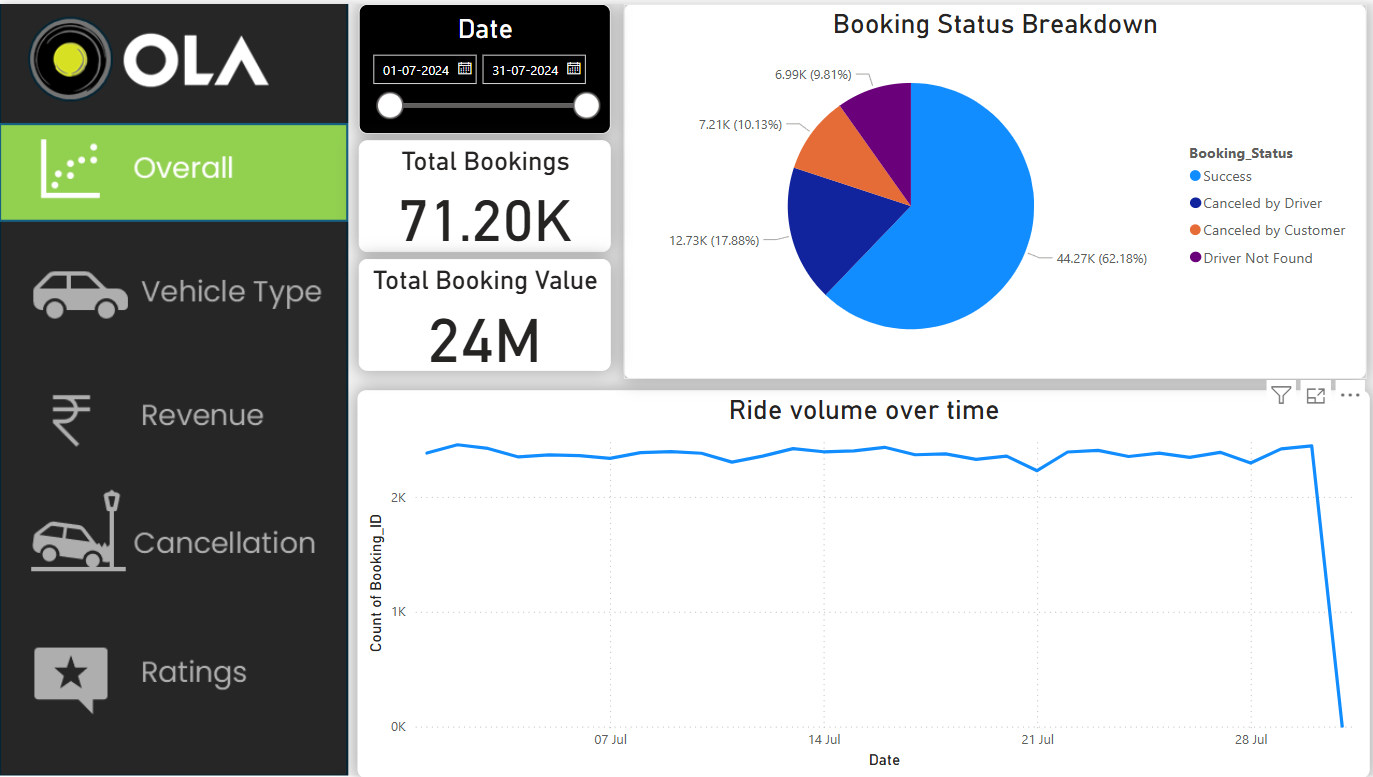

This screenshot's page, from the dashboard's own definition file:
{"tool":"powerbi","page":{"name":"overall","canvas":[1280,720],"ordinal":0},"visuals":[{"type":"actionButton","box":[0,222,324.5,92.9],"z":0},{"type":"actionButton","box":[0,335.4,324.5,92.9],"z":1000},{"type":"actionButton","box":[0,447.6,324.5,92.9],"z":2000},{"type":"actionButton","box":[0,575.5,324.5,92.9],"z":3000},{"type":"lineChart","title":"Ride volume over time","fields":{"Y":["CountNonNull(July.Booking_ID)"],"Category":["July.Date"]},"box":[332.1,359.5,941.3,360.9],"z":4000},{"type":"pieChart","title":"Booking Status Breakdown","fields":{"Category":["July.Booking_Status"],"Y":["CountNonNull(July.Booking_ID)"]},"box":[580.3,0,690.1,348.7],"z":5000},{"type":"slicer","title":"Date","fields":{"Values":["July.Date"]},"box":[334.2,0,234,120.6],"z":6000},{"type":"card","title":"Total Bookings","fields":{"Values":["CountNonNull(July.Booking_ID)"]},"box":[334.2,126.7,234,103.8],"z":7000},{"type":"card","title":"Total Booking Value","fields":{"Values":["Sum(July.Booking_Value)"]},"box":[334.2,237.7,234,103.8],"z":8000},{"type":"actionButton","box":[0,111.1,325.2,93.3],"z":9000}]}

Visuals, with their boxes in screenshot pixels (x1, y1, x2, y2), scaled from the page's 1280x720 canvas onto the 1373x777 screenshot:
actionButton: l=0, t=240, r=348, b=340
actionButton: l=0, t=362, r=348, b=462
actionButton: l=0, t=483, r=348, b=583
actionButton: l=0, t=621, r=348, b=721
"Ride volume over time" lineChart: l=356, t=388, r=1366, b=776
"Booking Status Breakdown" pieChart: l=622, t=0, r=1363, b=376
"Date" slicer: l=358, t=0, r=609, b=130
"Total Bookings" card: l=358, t=137, r=609, b=249
"Total Booking Value" card: l=358, t=257, r=609, b=369
actionButton: l=0, t=120, r=349, b=221
